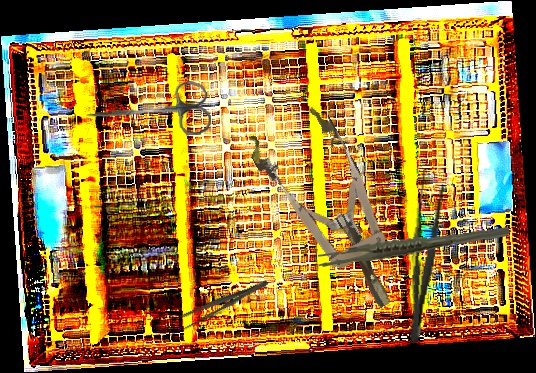Dressing Forceps: (400, 166, 448, 347), (162, 273, 273, 339)
Iris Scissors: (83, 79, 213, 145)
Speculum: (242, 98, 423, 328)
Tissue Forceps: (317, 218, 509, 275)
